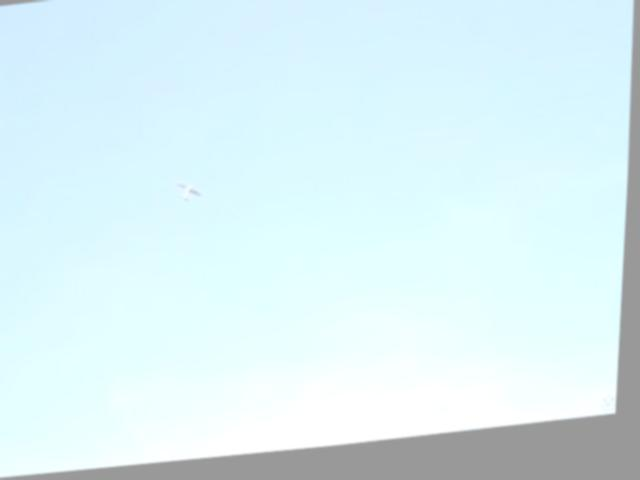uav: (171, 172, 209, 213)
